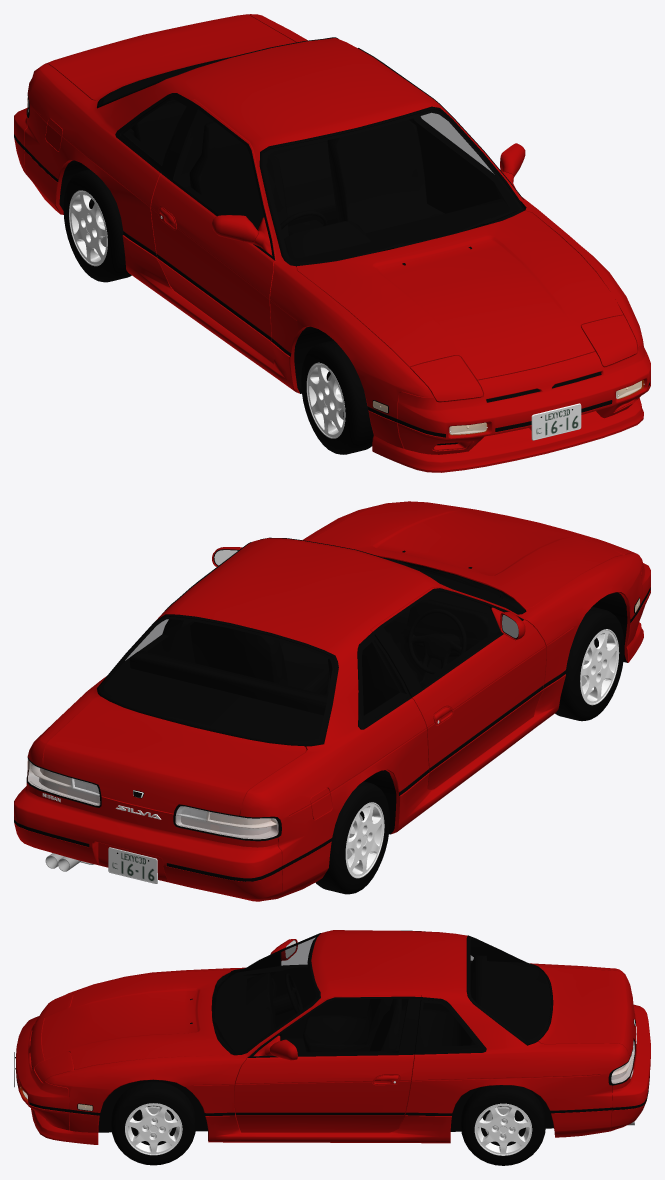
The model's file is nissan_onevia_updated.glb.
3 renders of one model, top to bottom at view 1: azimuth 30°, elevation 25°; view 2: azimuth 150°, elevation 25°; view 3: azimuth 270°, elevation 25°, orthographic. The views are drawn at different scales.
Visible parts, largest first — view 1: Object_8, Object_10, Object_16, Object_30, Object_26, Object_11, Object_20, Object_6, Object_21, Object_13, Object_7, Object_3 (+1 smaller); view 2: Object_8, Object_16, Object_10, Object_30, Object_26, Object_11, Object_22, Object_2, Object_21, Object_20, Object_6, Object_13 (+1 smaller); view 3: Object_8, Object_10, Object_16, Object_30, Object_26, Object_11, Object_6, Object_21, Object_20, Object_7, Object_25, Object_22 (+1 smaller).
Part boxes in pixels (bbox=[...]): Object_8: bbox=[14, 14, 650, 472]; Object_10: bbox=[104, 61, 519, 264]; Object_16: bbox=[103, 60, 519, 264]; Object_30: bbox=[63, 169, 373, 454]; Object_26: bbox=[69, 190, 345, 438]; Object_11: bbox=[97, 37, 524, 262]; Object_20: bbox=[100, 59, 523, 266]; Object_6: bbox=[59, 160, 601, 445]; Object_21: bbox=[14, 94, 650, 437]; Object_13: bbox=[531, 403, 581, 440]; Object_7: bbox=[162, 104, 421, 179]; Object_3: bbox=[373, 380, 643, 435]; Object_8: bbox=[14, 501, 650, 901]; Object_16: bbox=[103, 571, 519, 740]; Object_10: bbox=[104, 569, 518, 740]; Object_30: bbox=[315, 606, 624, 894]; Object_26: bbox=[345, 629, 619, 878]; Object_11: bbox=[97, 537, 523, 798]; Object_22: bbox=[28, 761, 278, 839]; Object_2: bbox=[27, 759, 278, 839]; Object_21: bbox=[14, 549, 650, 881]; Object_20: bbox=[100, 584, 522, 743]; Object_6: bbox=[364, 559, 627, 834]; Object_13: bbox=[108, 847, 157, 883]; Object_8: bbox=[16, 930, 650, 1144]; Object_10: bbox=[213, 937, 548, 1054]; Object_16: bbox=[212, 936, 548, 1054]; Object_30: bbox=[111, 1081, 545, 1165]; Object_26: bbox=[125, 1103, 532, 1155]; Object_11: bbox=[237, 930, 634, 1057]; Object_6: bbox=[31, 972, 553, 1140]; Object_21: bbox=[16, 940, 649, 1115]; Object_20: bbox=[211, 935, 550, 1055]; Object_7: bbox=[399, 998, 420, 1053]; Object_25: bbox=[131, 1105, 525, 1145]; Object_22: bbox=[611, 1041, 634, 1083].
Bounding box in the file's own units: 1.88 × 1.26 × 4.52.
27 materials, 2 textured.
